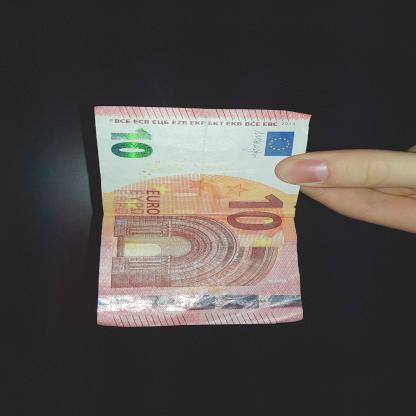euro_banknote: (89, 110, 312, 329)
